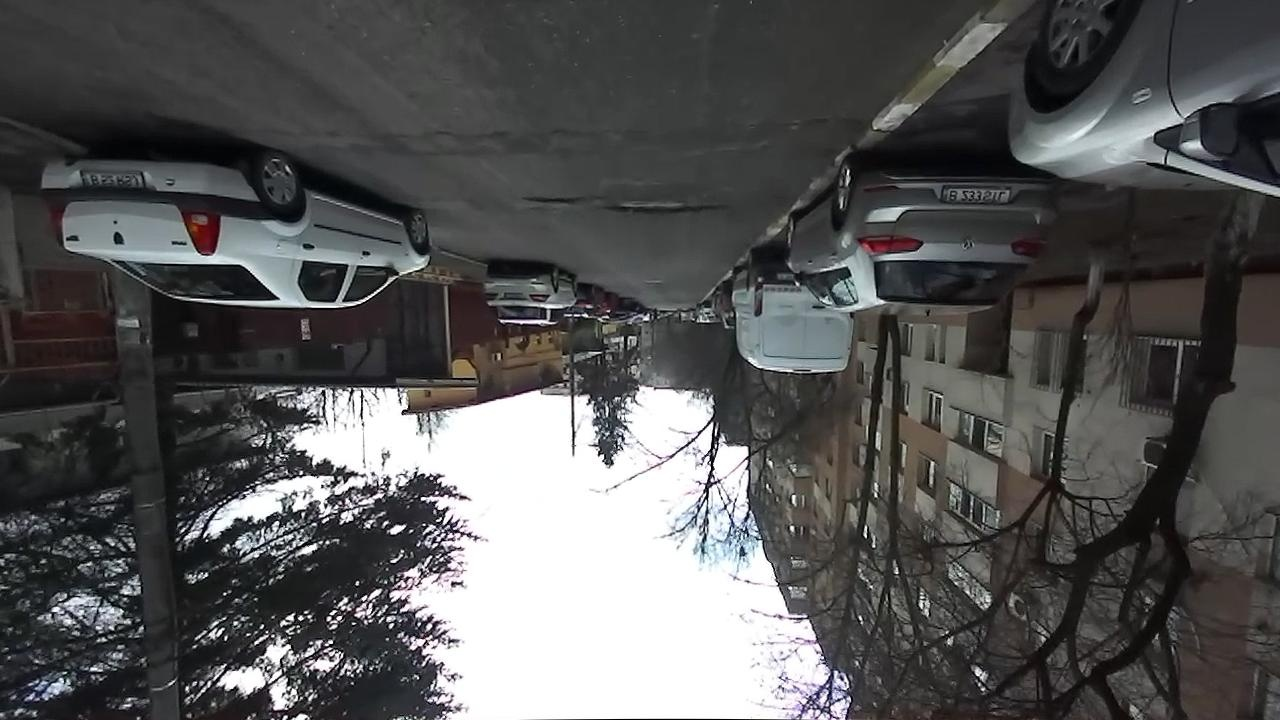pothole: (603, 195, 731, 217), (520, 193, 589, 207)
